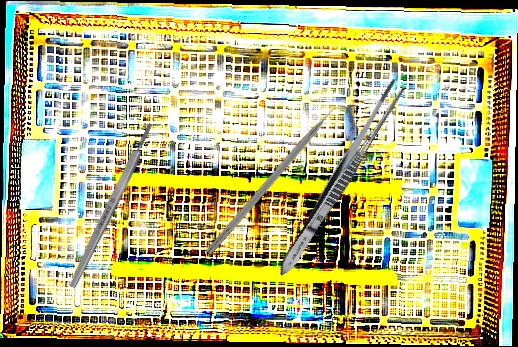Chopper: (204, 96, 354, 263)
Dressing Forceps: (272, 74, 409, 282)
Scalpel Handle: (66, 121, 157, 290)
